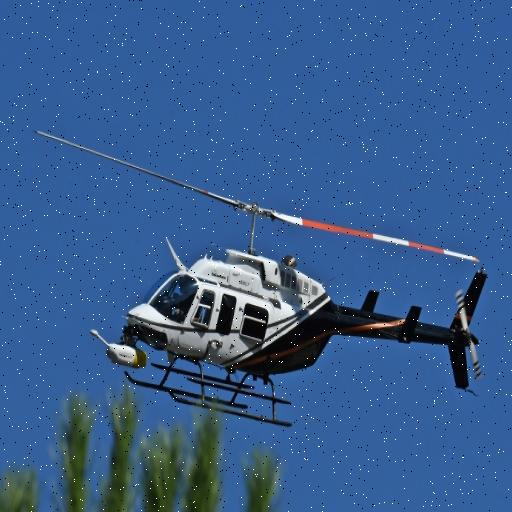helicopter: (35, 125, 477, 432)
